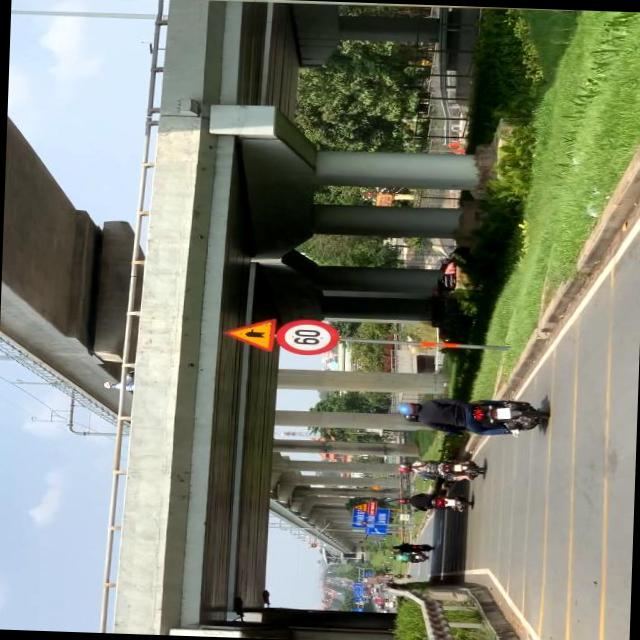P-127: (278, 317, 338, 353)
W-207b: (225, 314, 273, 352)
